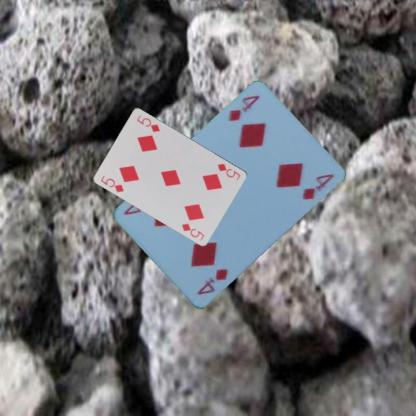4d: (194, 266, 229, 297), (225, 93, 261, 123)
5d: (98, 172, 126, 194), (215, 160, 242, 182)
